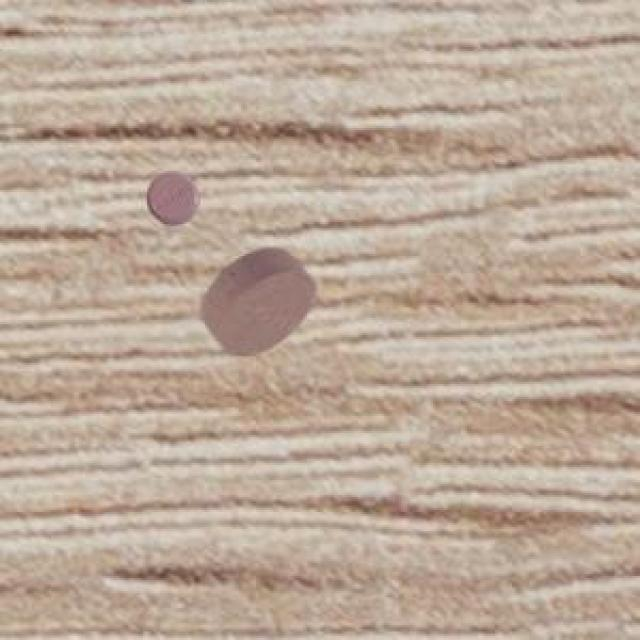Kremil_S: (194, 241, 327, 368), (137, 158, 212, 230)
